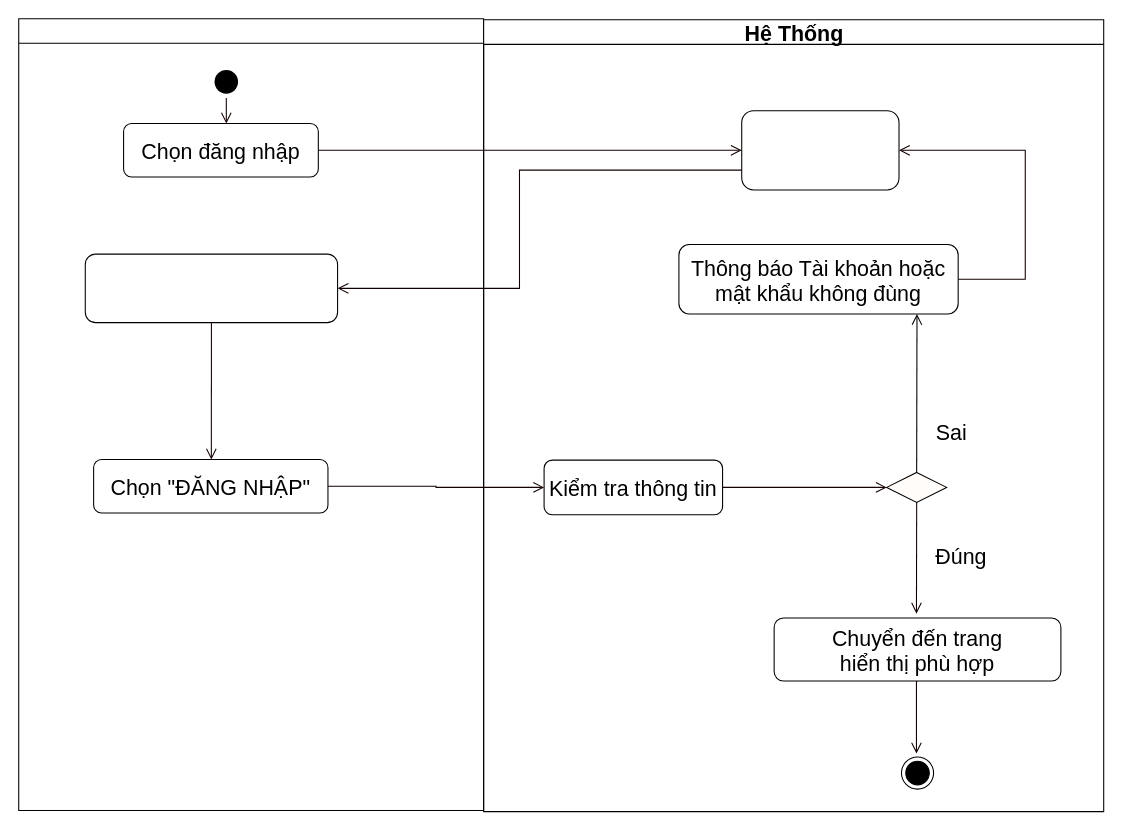
The diagram is 1122 pixels wide and 830 high, and some of its shapes have lost their labels. The shapes that lost their labels are listed below. From the top down, each one's box as (x1, y1, x2, y2) in pixels, then its label:
(741, 110, 899, 190): Hiển thị form đăng nhập
(84, 253, 338, 323): Nhập thông tin tài khoản và mật khẩu
(18, 18, 484, 811): Người Dùng
